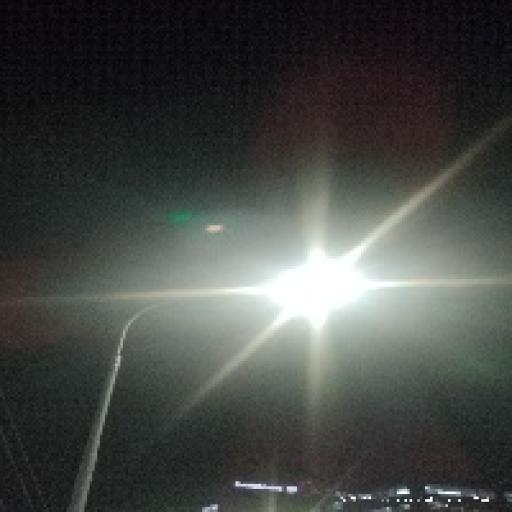Working: (240, 232, 395, 336)
